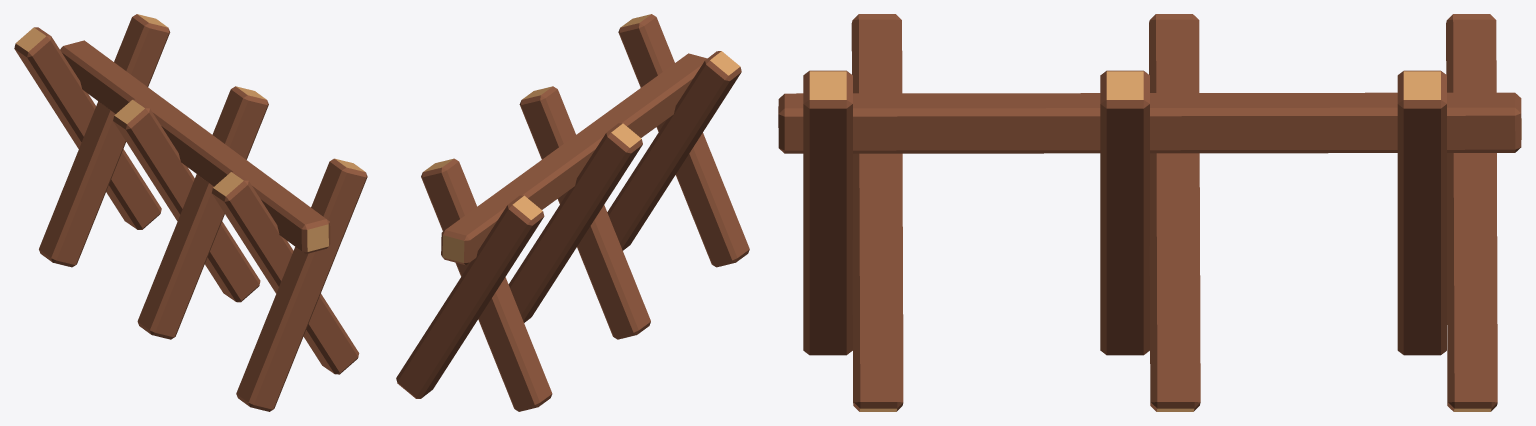
The model's file is Barrage.fbx.
3 views of the same model, side by side, from view 1: azimuth 30°, elevation 25°; view 2: azimuth 150°, elevation 25°; view 3: azimuth 270°, elevation 25° (orthographic). The views are drawn at different scales.
Parts seen in each view (by area): view 1: Barrage; view 2: Barrage; view 3: Barrage.
Boxes of the visible parts, <box> form: Barrage: <box>14,14,367,411</box>; Barrage: <box>396,14,749,411</box>; Barrage: <box>778,14,1521,411</box>.
Size of the model in its own units: 0.2387 by 0.3784 by 0.7502.
